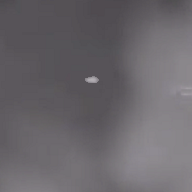Target: (85, 76, 99, 83)
